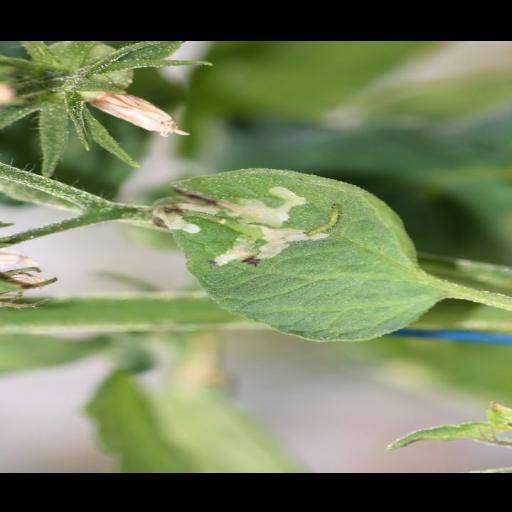disease_tomato: (152, 162, 450, 344)
